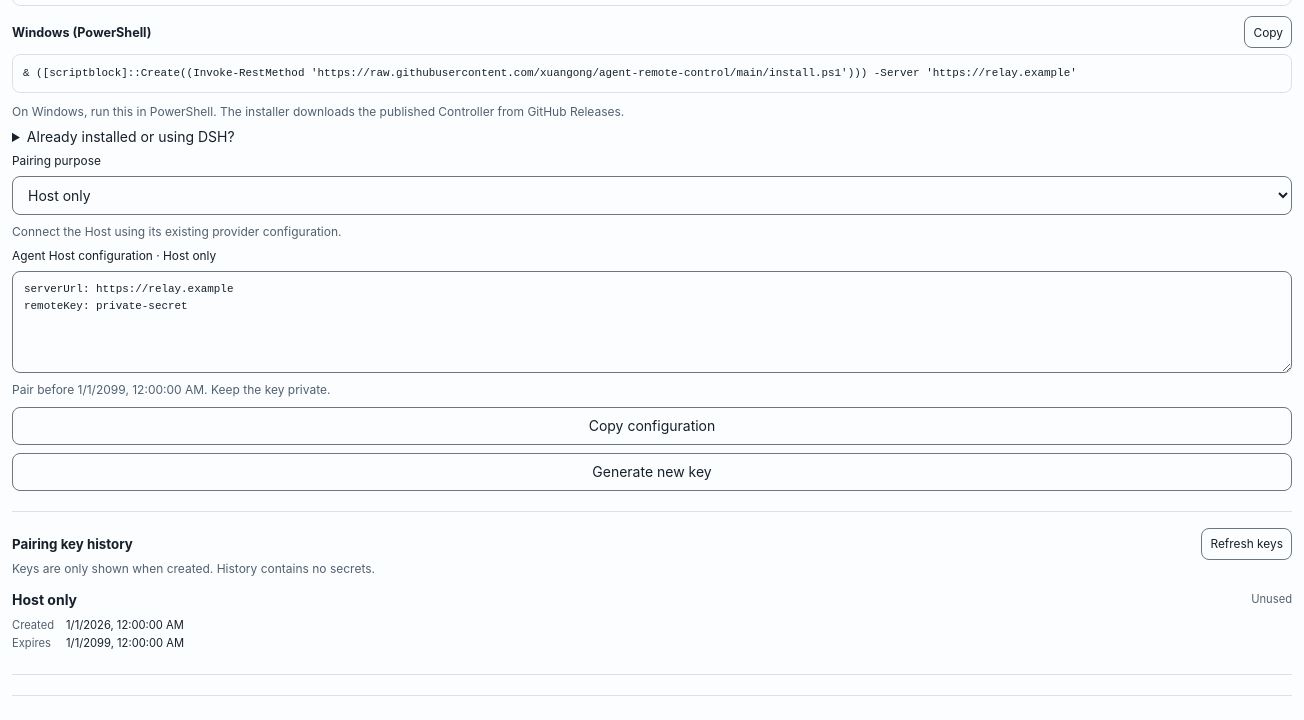
clears a consumed invitation when history is refreshed
(page scrolled)
Click the button "Refresh keys": (1247, 544) [1201,528,1292,560]
(page scrolled)
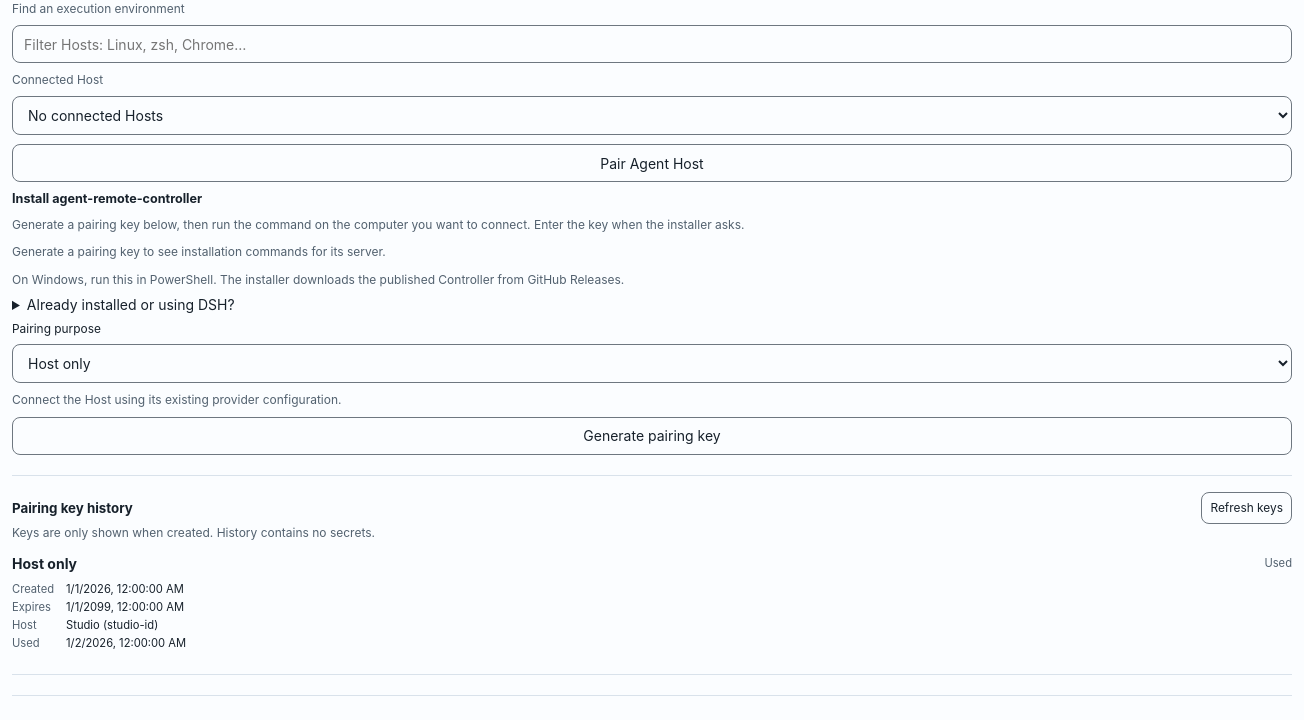
expect the text box is gone: met
expect the text "Studio" is shown: met, box [66,618,100,632]
